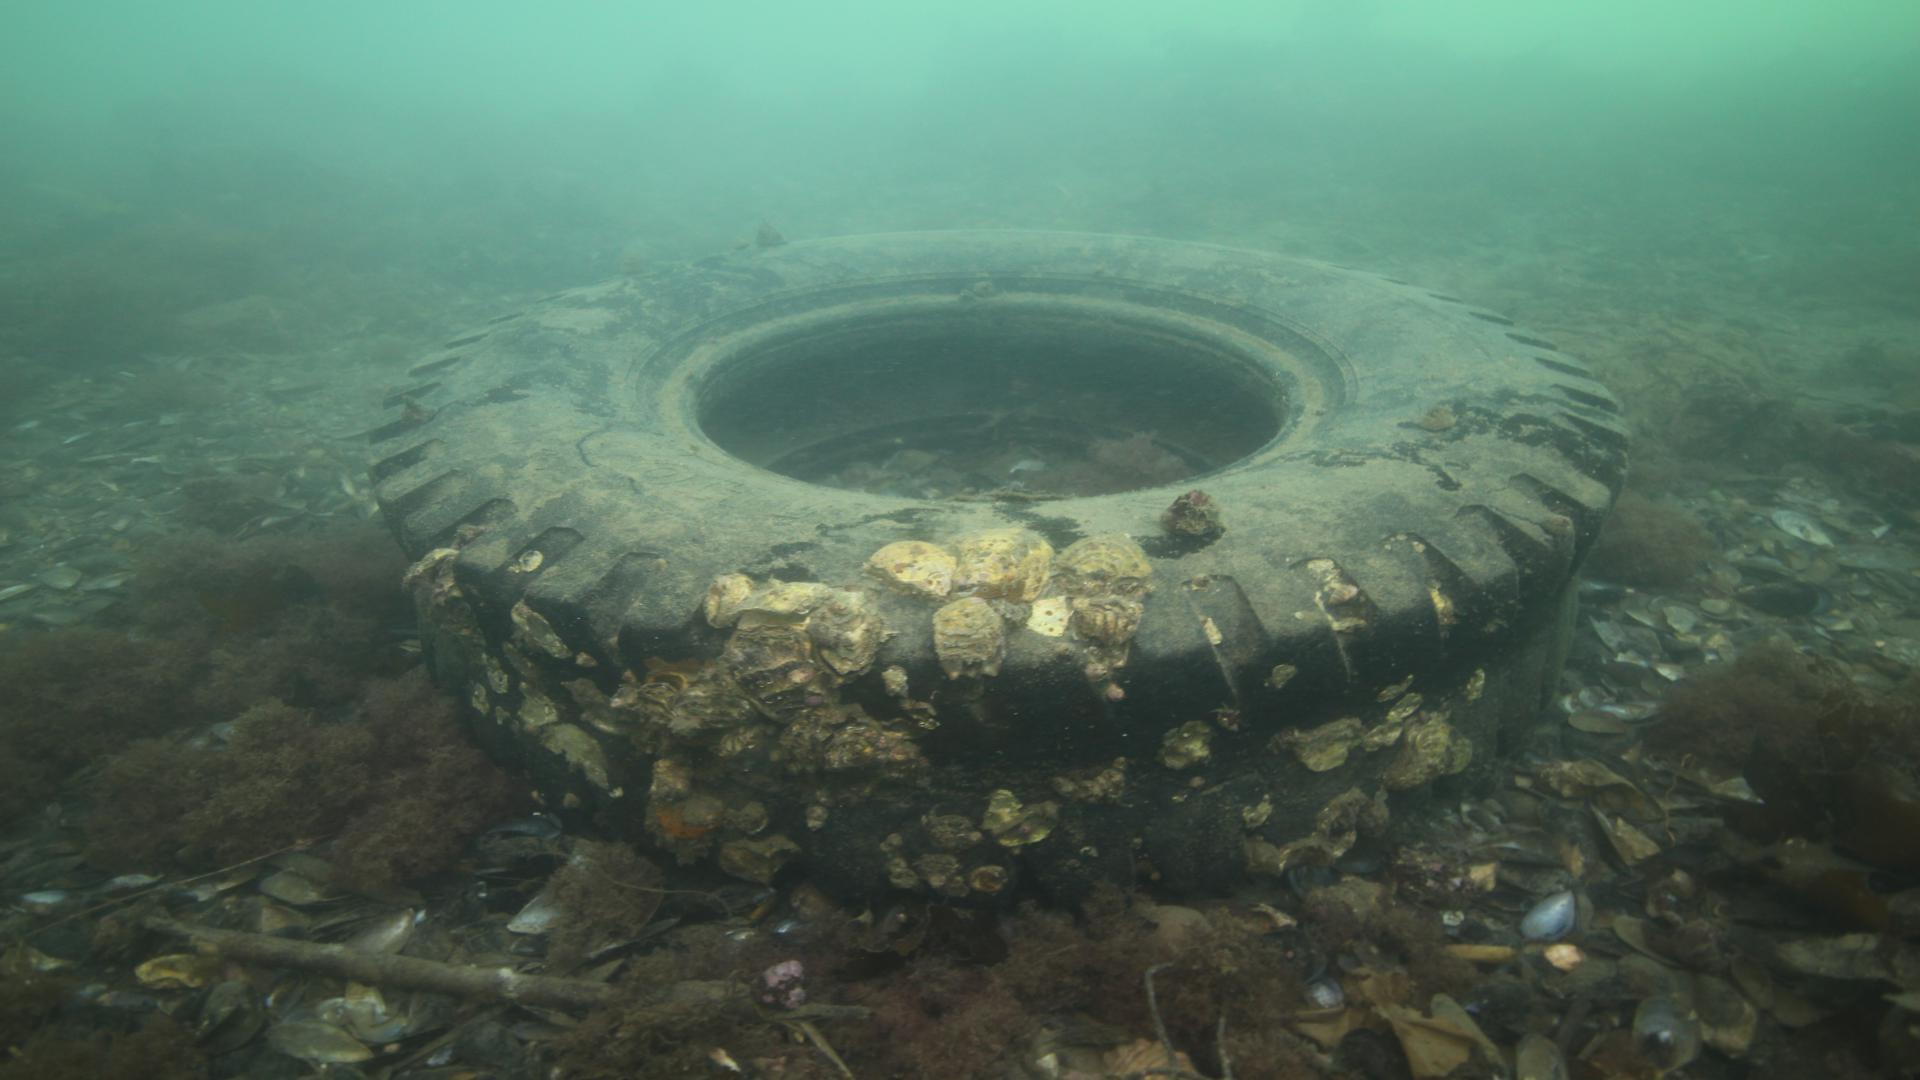tire: (360, 224, 1633, 918)
